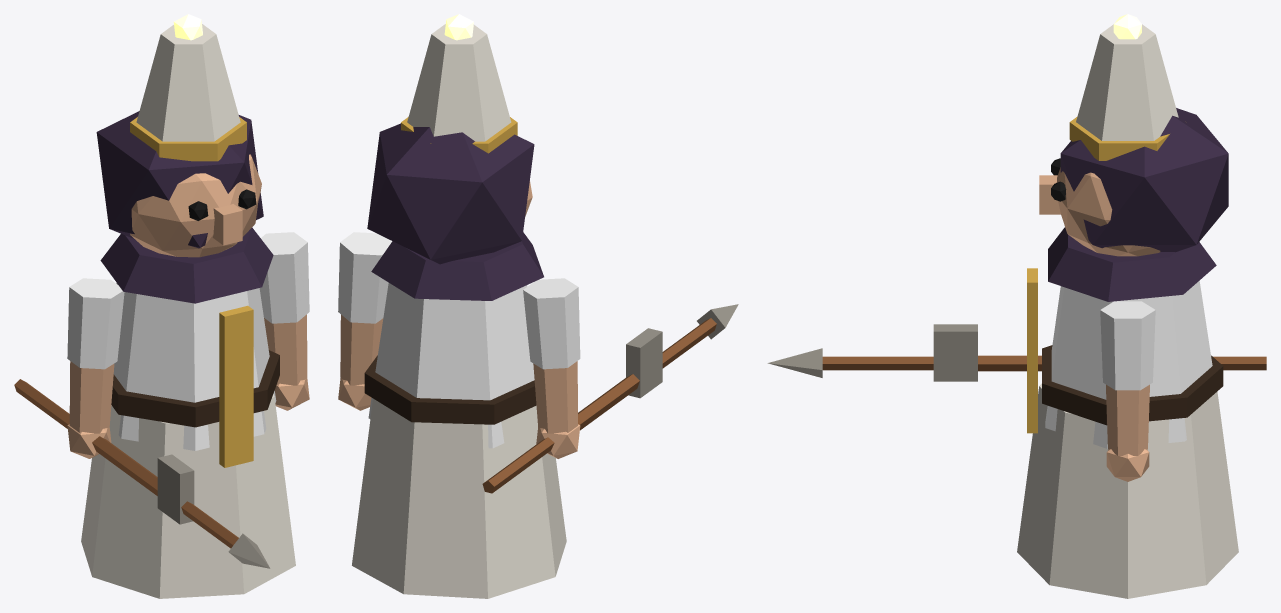
File: villager_rig.glb
3 renders of one model, left to right at view 1: azimuth 30°, elevation 25°; view 2: azimuth 150°, elevation 25°; view 3: azimuth 270°, elevation 25°, orthographic.
Visible parts, largest first — view 1: robe, torso, hood, mitre, arm_r, head, arm_l, tool, spear; view 2: robe, hood, torso, mitre, arm_r, arm_l, tool, spear; view 3: robe, hood, torso, mitre, arm_l, head, tool, spear.
Part boxes in pixels (<box>): robe: <box>81,305,295,598</box>; torso: <box>111,283,279,450</box>; hood: <box>96,111,273,303</box>; mitre: <box>130,14,246,161</box>; arm_r: <box>67,278,124,458</box>; head: <box>130,154,261,257</box>; arm_l: <box>259,232,309,410</box>; tool: <box>92,436,194,524</box>; spear: <box>14,379,270,568</box>; robe: <box>352,398,566,598</box>; hood: <box>367,123,543,300</box>; torso: <box>364,283,536,448</box>; mitre: <box>401,14,517,153</box>; arm_r: <box>523,278,580,458</box>; arm_l: <box>338,232,391,410</box>; tool: <box>578,328,662,430</box>; spear: <box>482,304,738,493</box>; robe: <box>1017,268,1238,598</box>; hood: <box>1048,108,1228,301</box>; torso: <box>1042,281,1223,448</box>; mitre: <box>1069,14,1178,160</box>; arm_l: <box>1100,301,1155,481</box>; head: <box>1039,158,1160,256</box>; tool: <box>933,324,1041,381</box>; spear: <box>767,348,1266,377</box>.
Size of the model in its own units: 0.4909 by 1.07 by 0.9.
